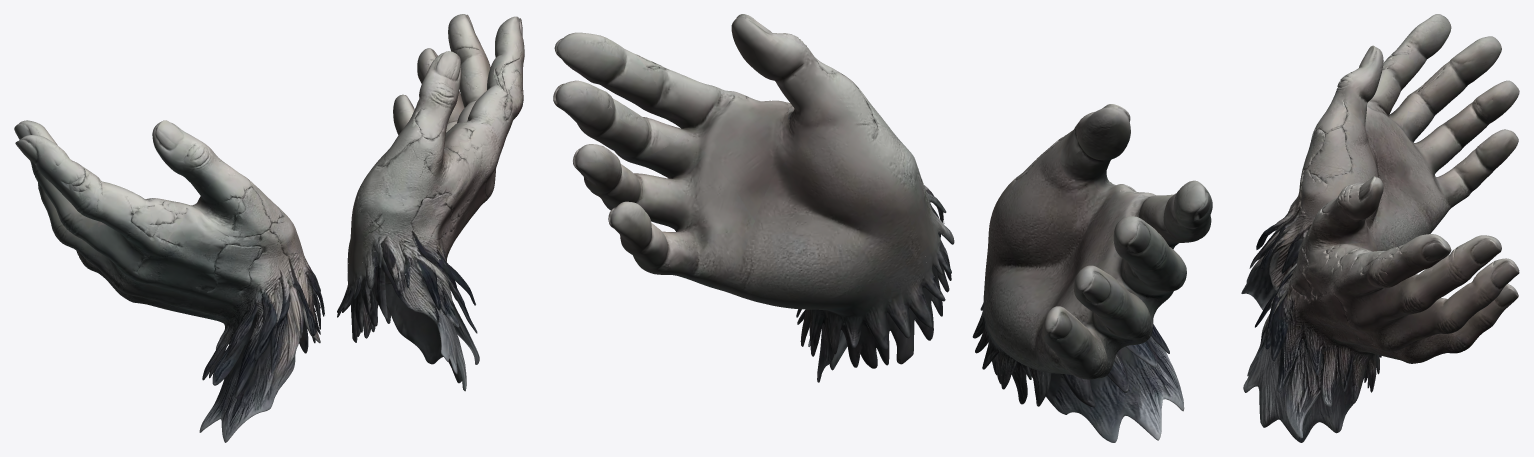
Rendered from hands-final.glb.
The picture shows the model from 3 angles, left to right: view 1: azimuth 30°, elevation 25°; view 2: azimuth 150°, elevation 25°; view 3: azimuth 270°, elevation 25°; orthographic projection. The views are drawn at different scales.
Parts seen in each view (by area): view 1: tripo_node_3fdfcfd6-b634-463e-9040-5db4182fad24; view 2: tripo_node_3fdfcfd6-b634-463e-9040-5db4182fad24; view 3: tripo_node_3fdfcfd6-b634-463e-9040-5db4182fad24.
Part boxes in pixels (bbox=[...]): tripo_node_3fdfcfd6-b634-463e-9040-5db4182fad24: bbox=[14, 14, 524, 442]; tripo_node_3fdfcfd6-b634-463e-9040-5db4182fad24: bbox=[553, 14, 1212, 442]; tripo_node_3fdfcfd6-b634-463e-9040-5db4182fad24: bbox=[1241, 14, 1519, 442].
Bounding box in the file's own units: 0.9787 × 0.5502 × 0.4972.
1 material, 1 textured.
